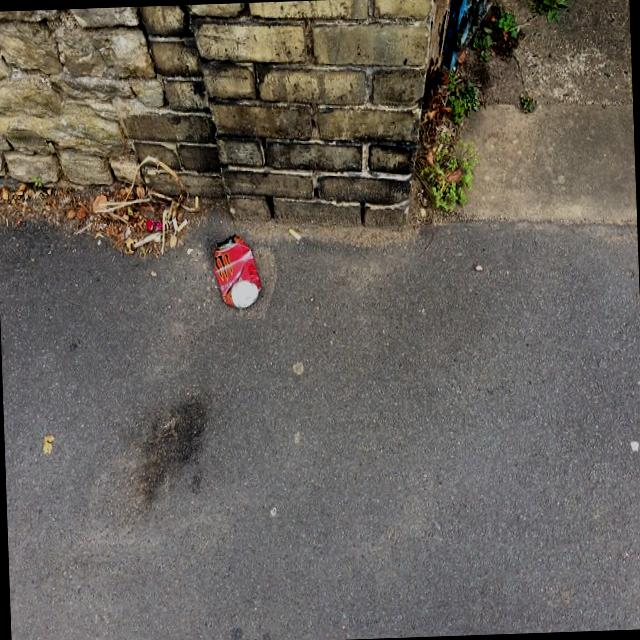Recycle: (209, 236, 263, 314)
Trash: (146, 218, 163, 232)
